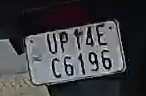1: (71, 29, 83, 52), (78, 52, 87, 78)
4: (84, 26, 94, 49)
6: (63, 54, 75, 82), (99, 48, 113, 71)
9: (86, 49, 101, 74)
C: (50, 54, 64, 81)
E: (93, 22, 111, 47)
P: (58, 30, 70, 53)
U: (45, 33, 59, 56)
